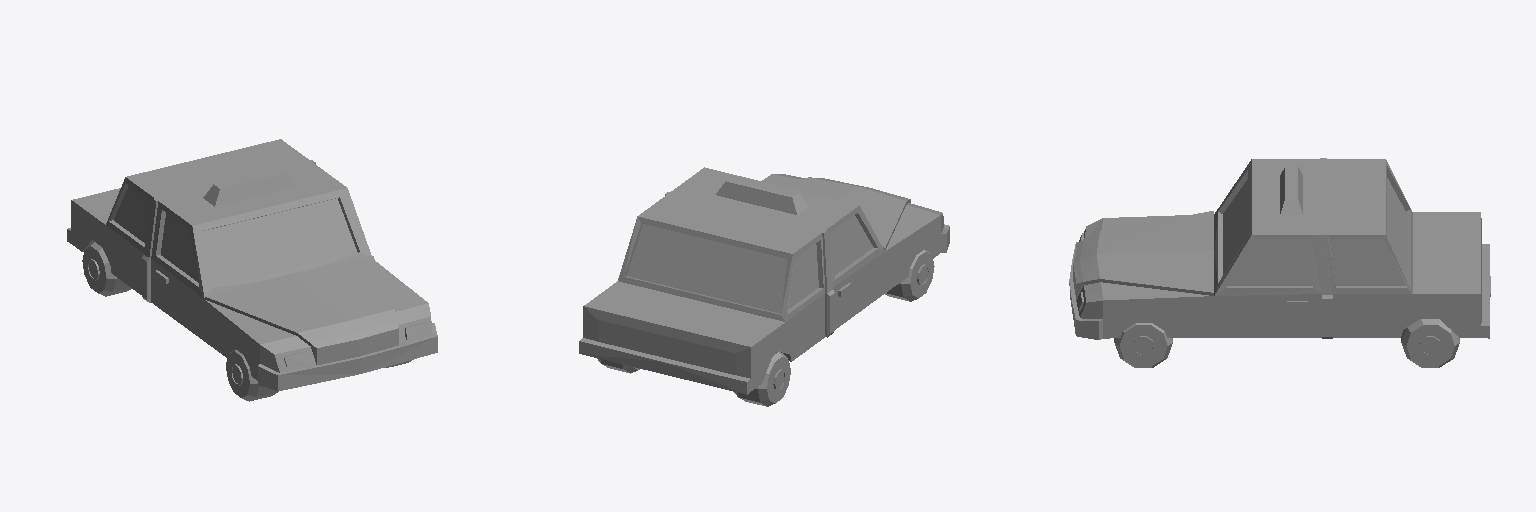
File: Taxi.obj
3 renders of one model, left to right at view 1: azimuth 30°, elevation 25°; view 2: azimuth 150°, elevation 25°; view 3: azimuth 270°, elevation 25°, orthographic.
Parts seen in each view (by area): view 1: Taxi_Cube.001, BackWheels_Cylinder.003, Front_Wheels_Cylinder.001; view 2: Taxi_Cube.001, BackWheels_Cylinder.003, Front_Wheels_Cylinder.001; view 3: Taxi_Cube.001, BackWheels_Cylinder.003, Front_Wheels_Cylinder.001.
Boxes of the visible parts, x1=… form: Taxi_Cube.001: x1=67, y1=139, x2=437, y2=390; BackWheels_Cylinder.003: x1=82, y1=241, x2=131, y2=296; Front_Wheels_Cylinder.001: x1=226, y1=349, x2=413, y2=401; Taxi_Cube.001: x1=579, y1=167, x2=949, y2=394; BackWheels_Cylinder.003: x1=597, y1=351, x2=790, y2=406; Front_Wheels_Cylinder.001: x1=885, y1=250, x2=934, y2=301; Taxi_Cube.001: x1=1069, y1=158, x2=1490, y2=339; BackWheels_Cylinder.003: x1=1401, y1=319, x2=1459, y2=367; Front_Wheels_Cylinder.001: x1=1114, y1=323, x2=1172, y2=367.
Size of the model in its own units: 1.84 by 1.45 by 3.79.